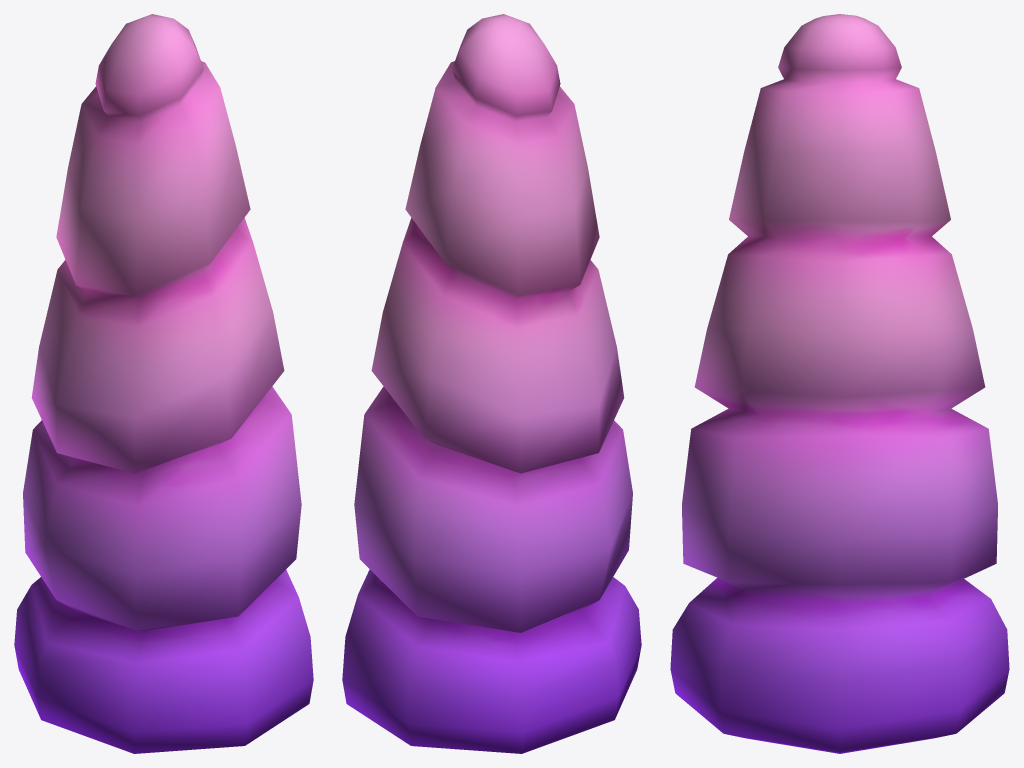
The model's file is horn.glb.
3 views of the same model, side by side, from view 1: azimuth 30°, elevation 25°; view 2: azimuth 150°, elevation 25°; view 3: azimuth 270°, elevation 25° (orthographic).
Visible parts, largest first — view 1: Cube; view 2: Cube; view 3: Cube.
Boxes of the visible parts, x1,y1,x2,y2 form: Cube: [14, 14, 313, 753]; Cube: [342, 14, 641, 753]; Cube: [670, 14, 1009, 753].
Size of the model in its own units: 0.9656 by 2.47 by 1.1.
1 material, 1 textured.
